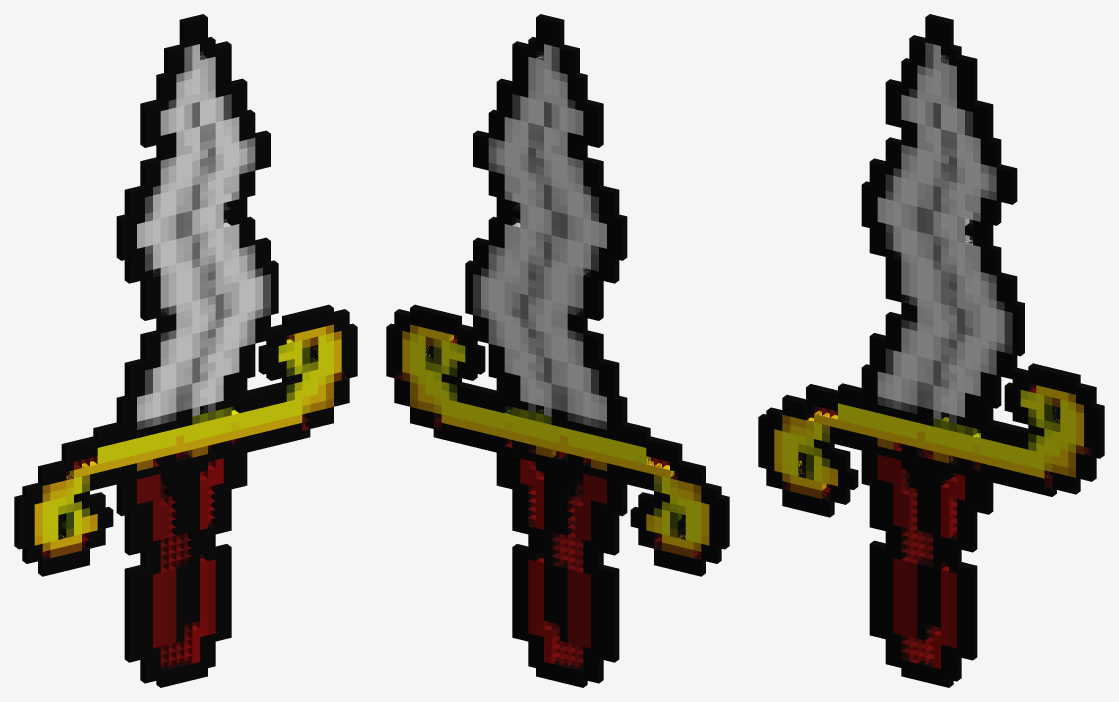
The model's file is AssassinRelic.fbx.
The picture shows the model from 3 angles, left to right: view 1: azimuth 30°, elevation 25°; view 2: azimuth 150°, elevation 25°; view 3: azimuth 330°, elevation 25°; orthographic projection.
Visible parts, largest first — view 1: assassinrelic; view 2: assassinrelic; view 3: assassinrelic.
Boxes of the visible parts, x1=… form: assassinrelic: x1=14, y1=14, x2=357, y2=687; assassinrelic: x1=386, y1=14, x2=729, y2=687; assassinrelic: x1=758, y1=14, x2=1104, y2=687.
Bounding box in the file's own units: 4246 × 7900 × 98.75.
